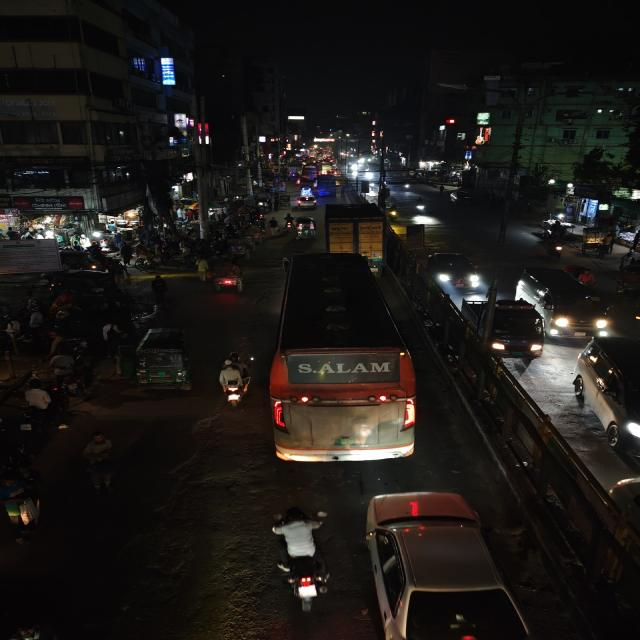bicycle: (77, 432, 121, 494)
bus: (267, 250, 413, 465)
car: (364, 485, 526, 640), (573, 333, 640, 469), (515, 264, 612, 336), (422, 249, 484, 293), (446, 188, 474, 207), (296, 194, 318, 210)
cng: (132, 327, 196, 393), (294, 215, 318, 241), (298, 184, 315, 196)
motorcycle: (266, 502, 333, 614), (76, 431, 121, 493), (216, 350, 255, 408), (538, 231, 569, 260), (414, 197, 429, 215), (282, 213, 295, 233), (389, 205, 402, 222)
pedestrian: (148, 272, 172, 304), (195, 258, 207, 280), (269, 217, 281, 237), (437, 183, 446, 198), (339, 185, 346, 197)
pickup_van: (460, 296, 544, 361)
rickshaw: (208, 260, 246, 294), (617, 248, 640, 298), (223, 238, 249, 261)
truck: (323, 200, 387, 270)
